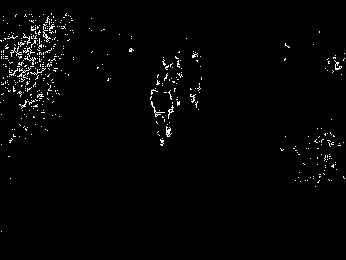person: (148, 73, 175, 147)
